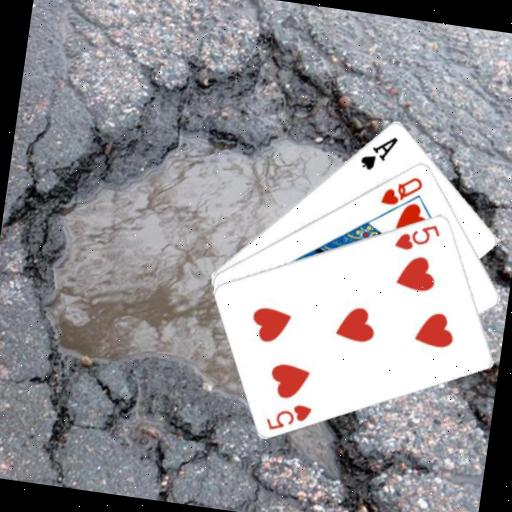5H: (391, 216, 444, 256), (262, 397, 315, 437)
AS: (356, 129, 400, 175)
QH: (377, 169, 426, 211)
